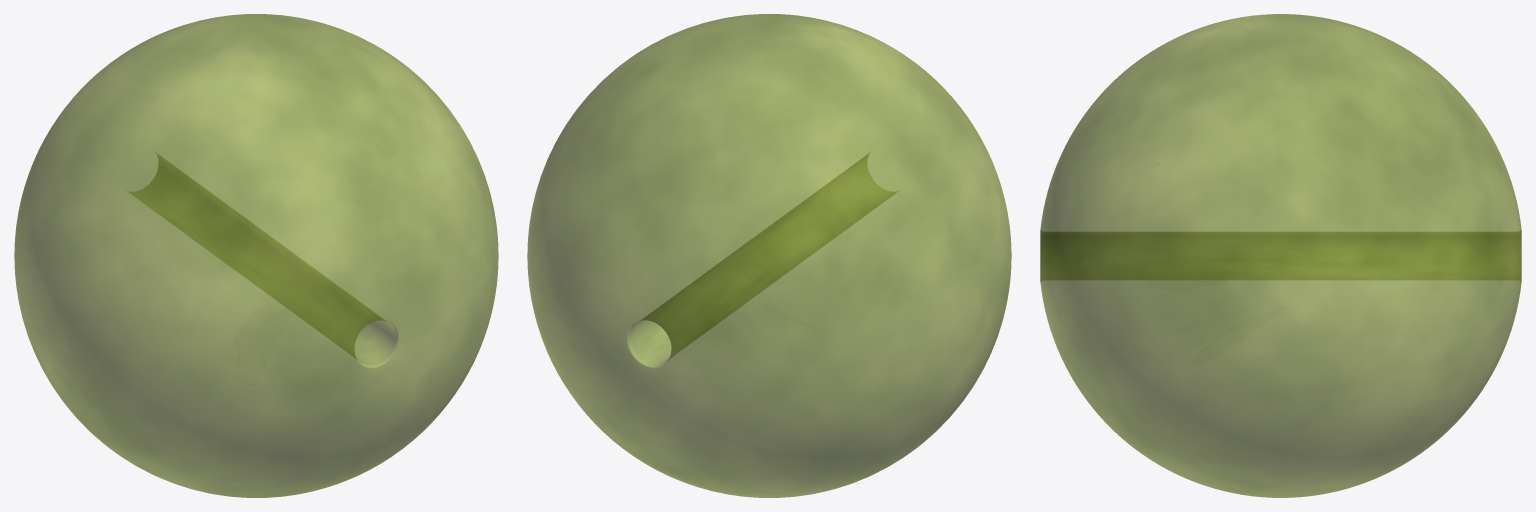
The model's file is peridot-aa-10mm.glb.
The picture shows the model from 3 angles, left to right: view 1: azimuth 30°, elevation 25°; view 2: azimuth 150°, elevation 25°; view 3: azimuth 270°, elevation 25°; orthographic projection.
Visible parts, largest first — view 1: peridot-aa.001; view 2: peridot-aa.001; view 3: peridot-aa.001.
Boxes of the visible parts, bbox=[...] form: peridot-aa.001: bbox=[14, 14, 498, 497]; peridot-aa.001: bbox=[527, 14, 1011, 497]; peridot-aa.001: bbox=[1040, 14, 1521, 497].
Bounding box in the file's own units: 0.01 × 0.01 × 0.00994.
Materials: 2 (1 with a texture image).
